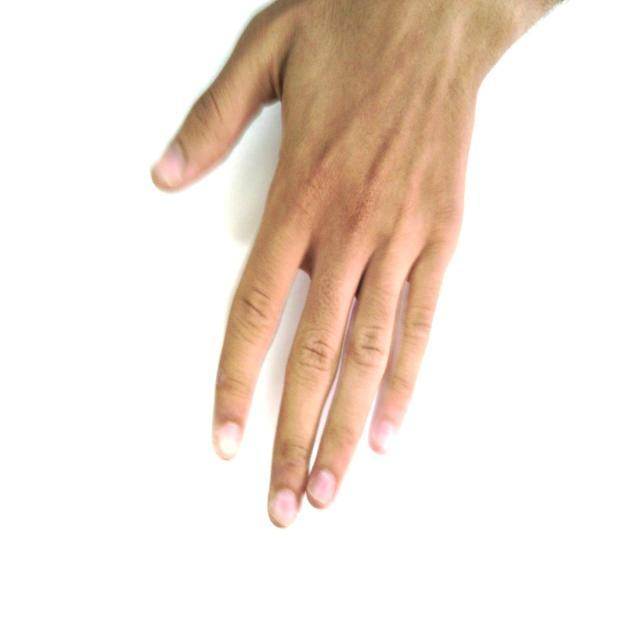Fingernail: (154, 143, 184, 186), (310, 470, 334, 505), (274, 491, 297, 525), (219, 424, 241, 459), (375, 421, 394, 452)
